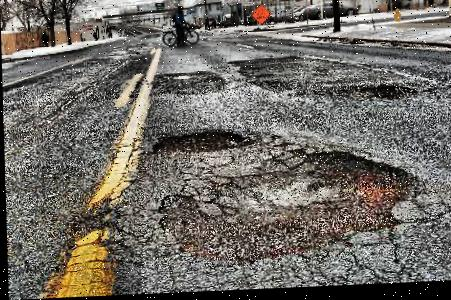pothole: (152, 143, 422, 268), (146, 128, 255, 157), (342, 85, 416, 105)
